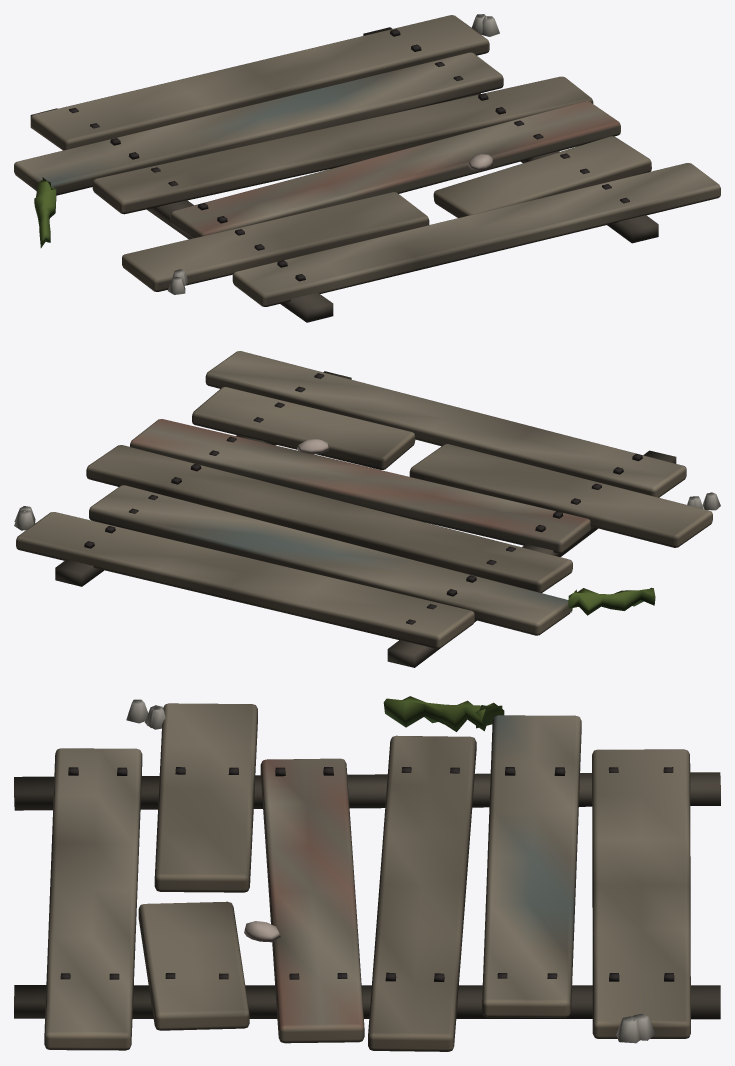
Rendered from dg-tidepool-planks.glb.
3 renders of one model, top to bottom at view 1: azimuth 30°, elevation 25°; view 2: azimuth 150°, elevation 25°; view 3: azimuth 270°, elevation 25°, orthographic. The views are drawn at different scales.
Parts seen in each view (by area): view 1: body; view 2: body; view 3: body.
Part boxes in pixels (x1,y1,x2,y2): body: (14,14,720,322); body: (14,351,720,667); body: (14,696,720,1051).
Size of the model in its own units: 2.06 by 0.1199 by 1.74.
